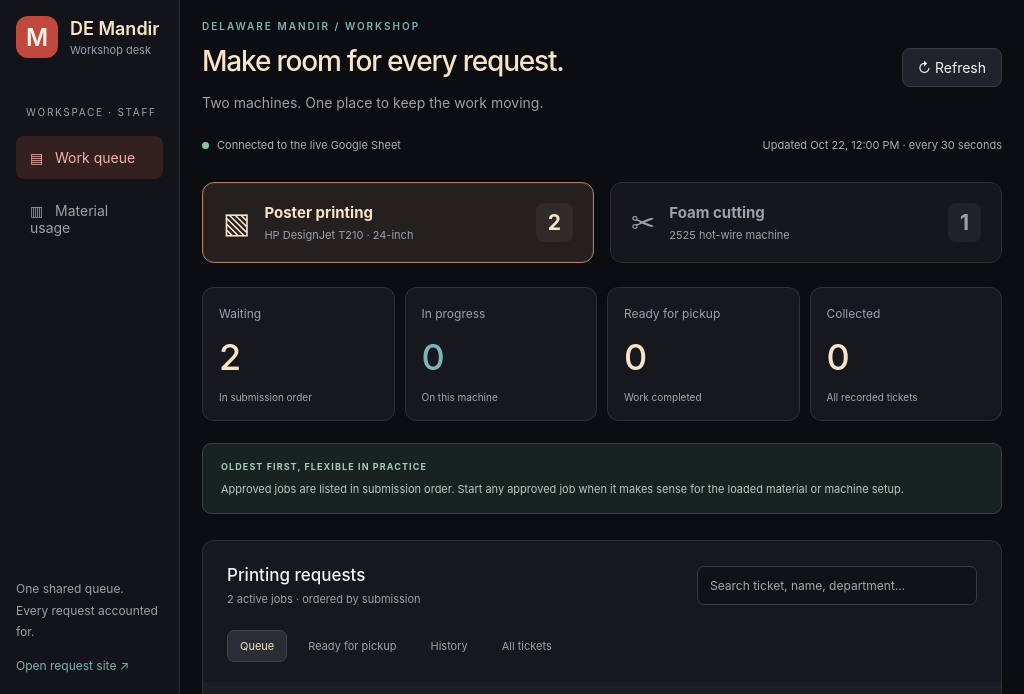
keeps FIFO position through search and separates foam jobs
The width and height of the screenshot is (1024, 694).
Expected: the heading "Printing requests" is shown, [227,565,365,585]
Type "P-0002" into the field named "Search tickets" at (837, 586), box [697,566,977,605]
(page scrolled)
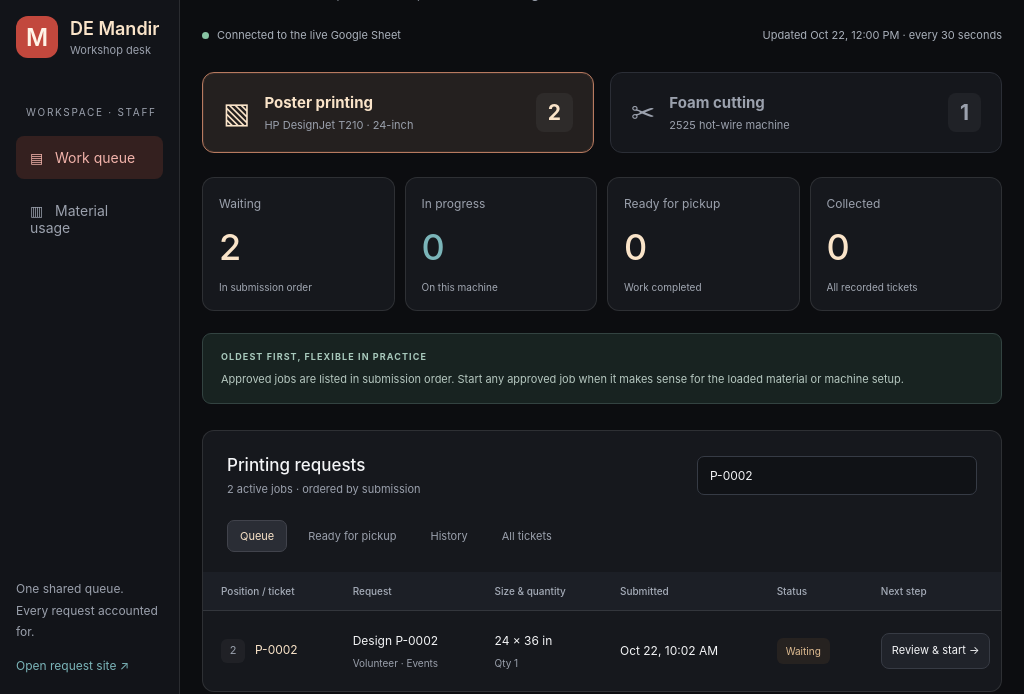
Click the button "2 P-0002" at (259, 651), box [221,639,298,663]
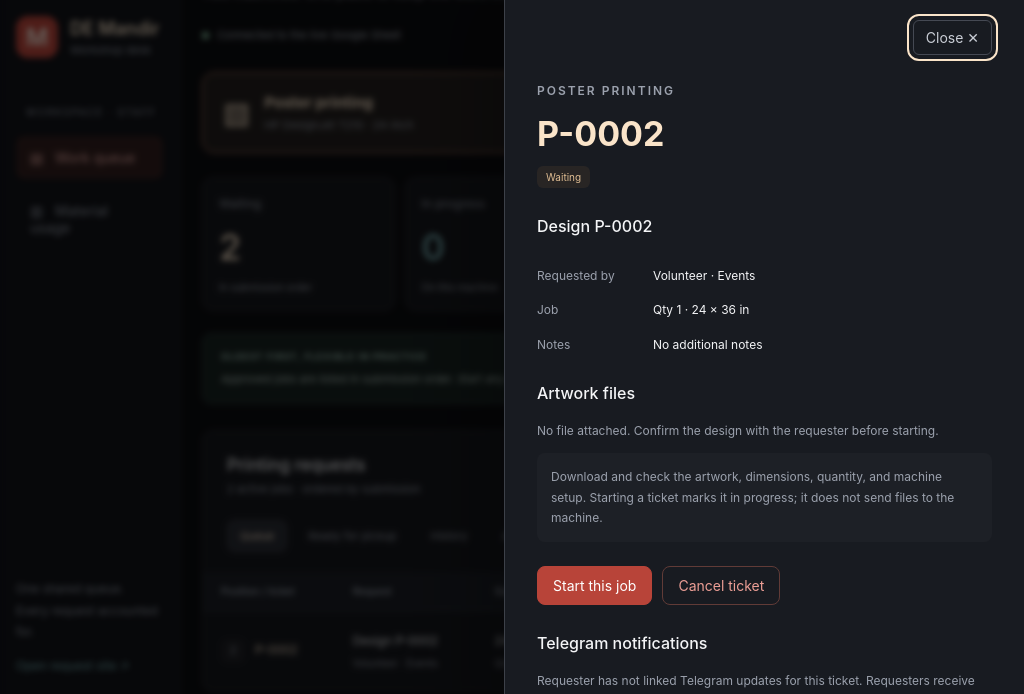
Expected: the button "Start this job" is enabled, [537,566,652,605]
Click the button "Close ✕" at (952, 38), box [913,20,992,55]
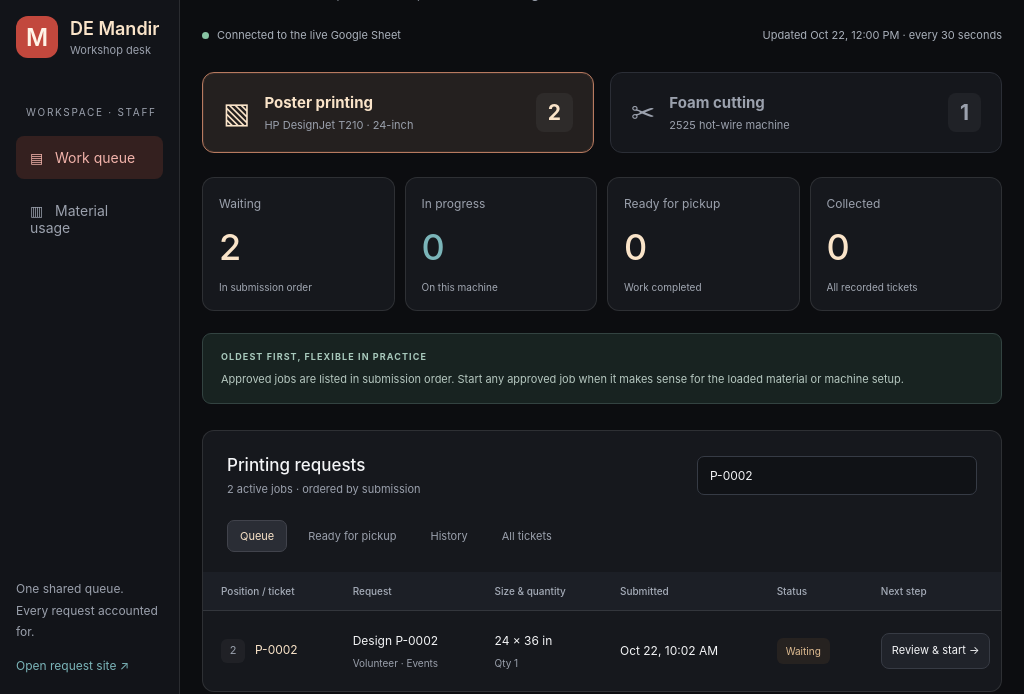
Clear the field named "Search tickets" at (837, 476), box [697,456,977,495]
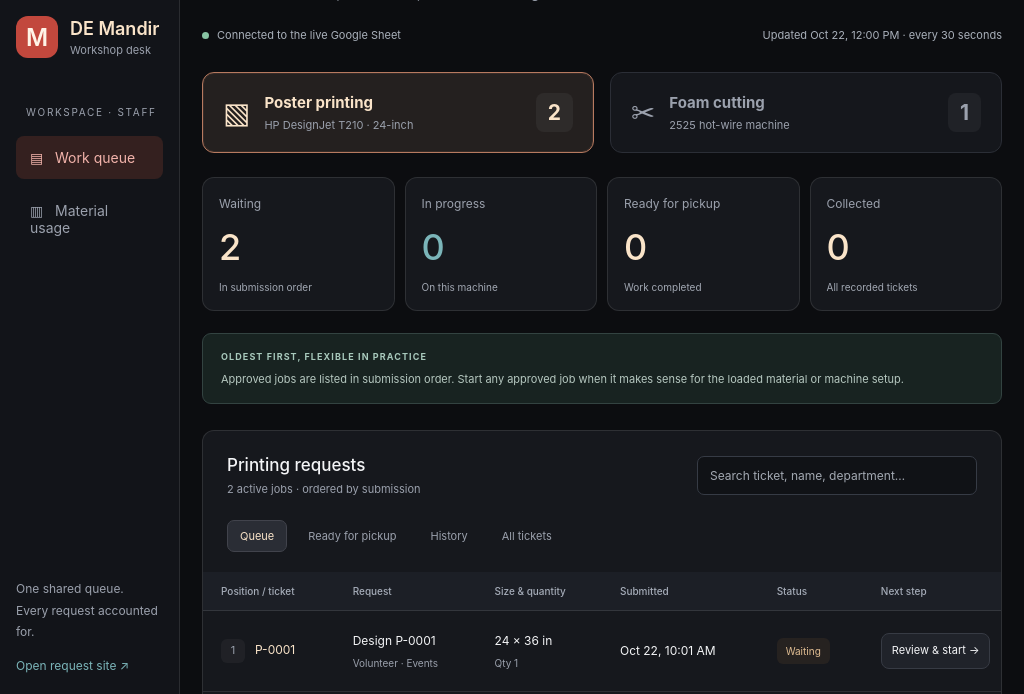
Click the button "✂ Foam cutting 2525 hot-wire machine 1" at (717, 103), box [610,72,1002,153]
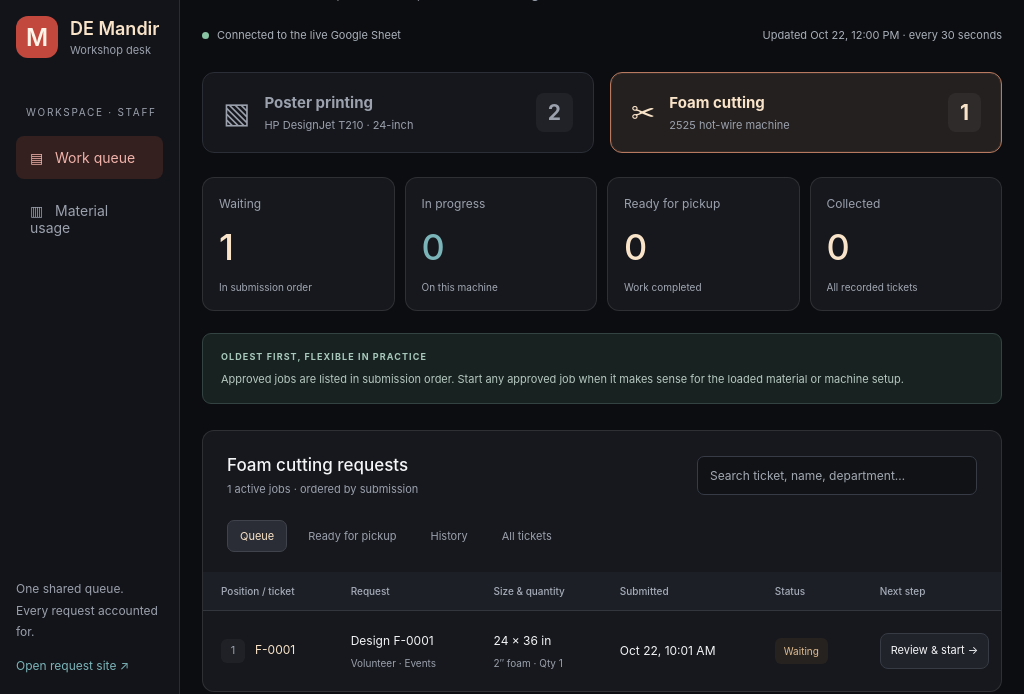
Click the button "1 F-0001" at (258, 651), box [221,639,295,663]
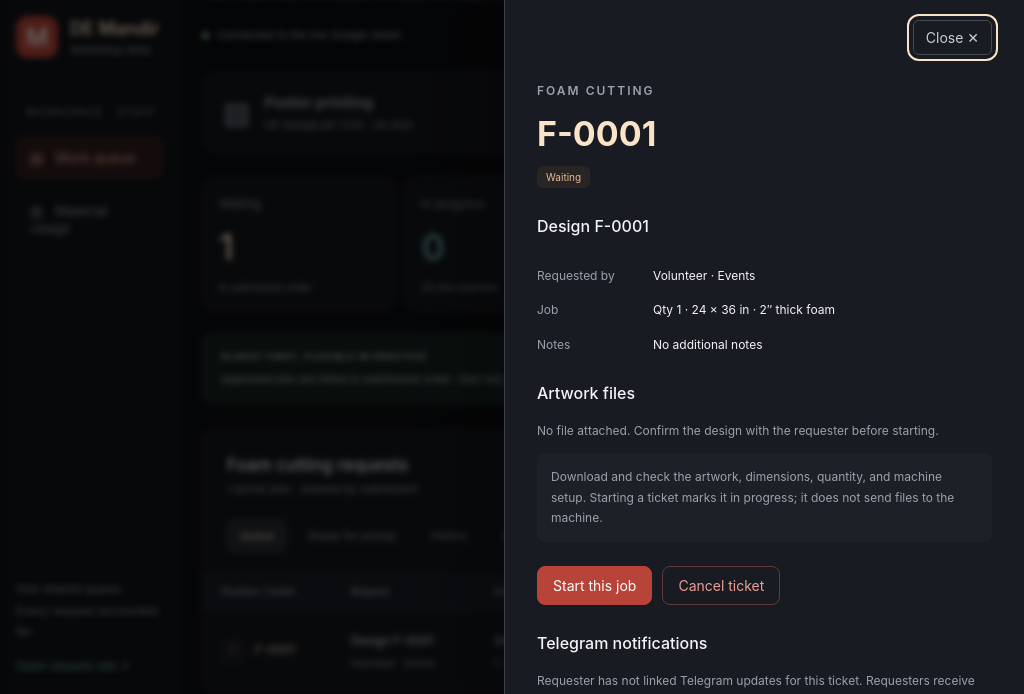
Expected: the button "Start this job" is enabled, [537,566,652,605]
Expected: the text "No file attached" is shown, [537,423,939,438]
